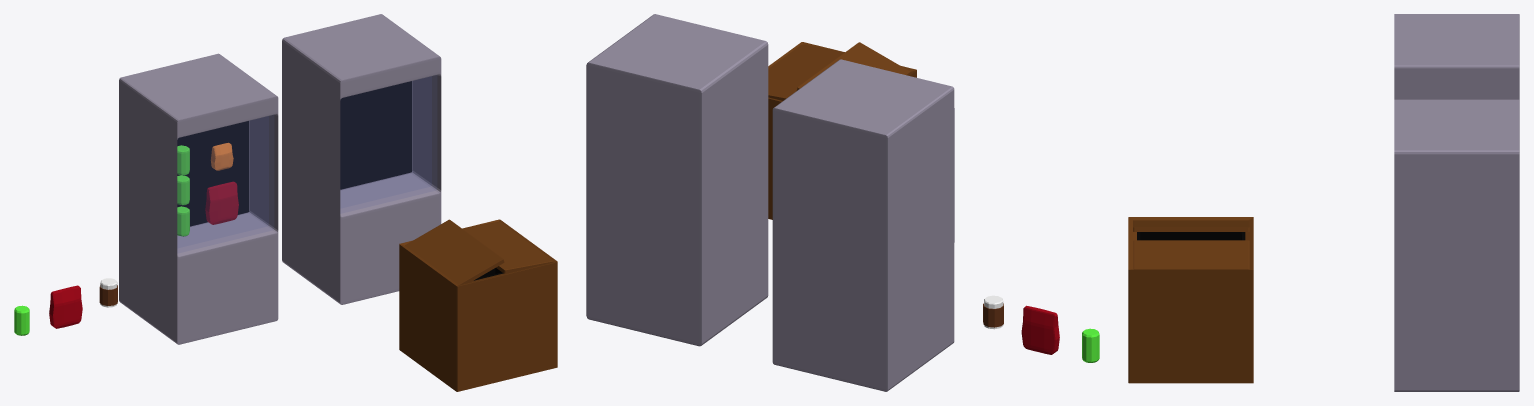
File: gaming_cafe.fbx
The picture shows the model from 3 angles, left to right: view 1: azimuth 30°, elevation 25°; view 2: azimuth 150°, elevation 25°; view 3: azimuth 270°, elevation 25°; orthographic projection. The views are drawn at different scales.
Parts seen in each view (by area): view 1: Cube.070, Cube.074, Cube.085, Cube.071, Cylinder.001; view 2: Cube.070, Cube.074, Cube.085, Cube.071, Cylinder.001, Cylinder.003; view 3: Cube.074, Cube.085, Cube.070.
Boxes of the visible parts, <box> form: Cube.070: <box>119,53,278,344</box>; Cube.074: <box>282,14,441,304</box>; Cube.085: <box>399,219,557,391</box>; Cube.071: <box>49,285,82,328</box>; Cylinder.001: <box>99,278,117,307</box>; Cube.070: <box>772,59,954,391</box>; Cube.074: <box>586,14,768,346</box>; Cube.085: <box>768,42,916,219</box>; Cube.071: <box>1021,305,1059,354</box>; Cylinder.001: <box>983,295,1003,329</box>; Cylinder.003: <box>1082,328,1099,362</box>; Cube.074: <box>1394,99,1519,391</box>; Cube.085: <box>1128,217,1253,383</box>; Cube.070: <box>1394,14,1519,99</box>.
Size of the model in its own units: 807 by 425 by 624.
